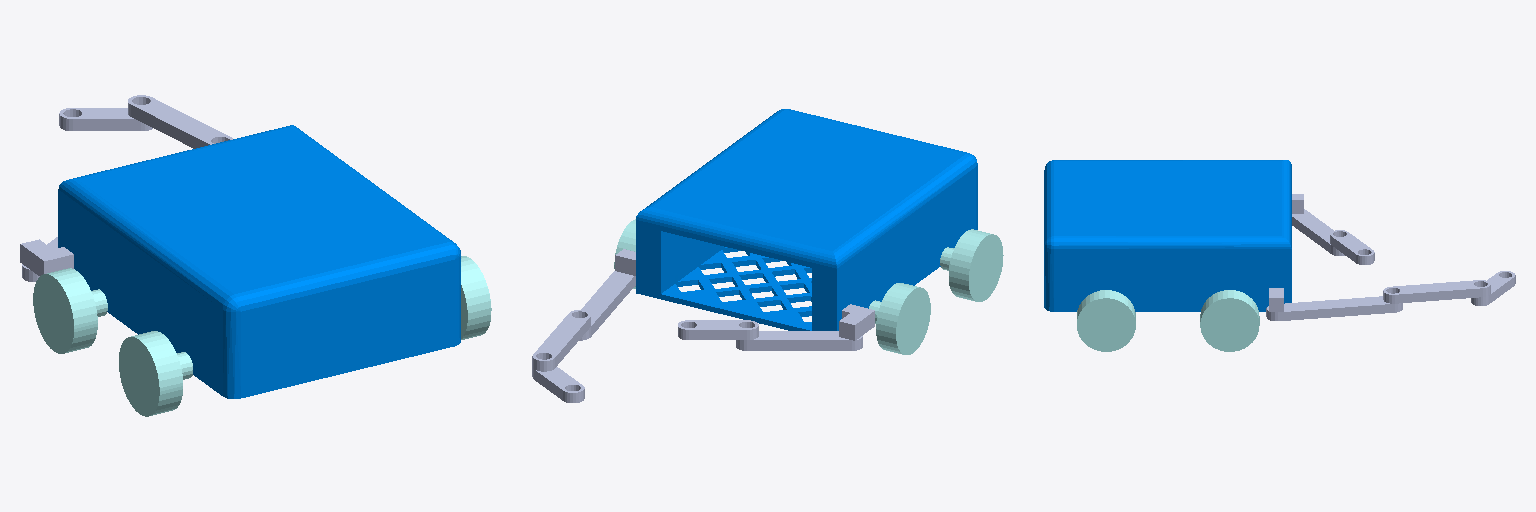
URDF robot description (project):
<?xml version="1.0" encoding="utf-8" ?>
<!-- This URDF was automatically created by SolidWorks to URDF Exporter! Originally created by [author] ([email redacted]) 
     Commit Version: 1.5.1-0-g916b5db  Build Version: 1.5.7152.31018
     For more information, please see http://wiki.ros.org/sw_urdf_exporter -->
<robot name="project">

    <link name="world" />
        <joint name="virtual_joint" type="fixed">
            <parent link="world" />
            <child link="base_link" />
            <origin xyz="0 0 0" rpy="0 0 0" />
        </joint>  

    <link name="base_link">
        
<inertial>
            <origin xyz="-0.00254797583364645 -0.105364950303488 0.0738359878459792" rpy="0 0 0" />
            <mass value="1.72429372346292" />
            <inertia ixx="0.0109314234954701" ixy="1.01485974615304E-06" ixz="-2.66870834625717E-06" iyy="0.0100303308363966" iyz="-0.000174340154658642" izz="0.0186205966354496" />
        </inertial>

        <visual>
            <origin xyz="0 0 0" rpy="0 0 0" />
            <geometry>
                <mesh filename="package://project/meshes/base_link.STL" />
            </geometry>
            <material name="">
                <color rgba="0 0.588235294117647 1 1" />
            </material>
        </visual>
        <collision>
            <origin xyz="0 0 0" rpy="0 0 0" />
            <geometry>
                <mesh filename="package://project/meshes/base_link.STL" />
            </geometry>
        </collision>
    </link>
    <link name="r_w_1">
        
<inertial>
            <origin xyz="0.045247 -2.7756E-17 0" rpy="0 0 0" />
            <mass value="0.067513" />
            <inertia ixx="2.5956E-05" ixy="7.2928E-22" ixz="9.0048E-22" iyy="2.4347E-05" iyz="-1.6941E-21" izz="2.4347E-05" />
        </inertial>

        <visual>
            <origin xyz="0 0 0" rpy="0 0 0" />
            <geometry>
                <mesh filename="package://project/meshes/r_w_1.STL" />
            </geometry>
            <material name="">
                <color rgba="0.75294 1 1 1" />
            </material>
        </visual>
        <collision>
            <origin xyz="0 0 0" rpy="0 0 0" />
            <geometry>
                <mesh filename="package://project/meshes/r_w_1.STL" />
            </geometry>
        </collision>
    </link>
    <joint name="rj_w_1" type="fixed">
        <origin xyz="0.0774877017107439 -0.0362774421458767 0.0299999999999999" rpy="2.74979624140029 0 0" />
        <parent link="base_link" />
        <child link="r_w_1" />
        <axis xyz="0 0 0" />
    </joint>
    <link name="r_w_2">
        
<inertial>
            <origin xyz="0.045247 -2.7756E-17 0" rpy="0 0 0" />
            <mass value="0.067513" />
            <inertia ixx="2.5956E-05" ixy="6.4099E-22" ixz="1.1251E-21" iyy="2.4347E-05" iyz="3.3881E-21" izz="2.4347E-05" />
        </inertial>

        <visual>
            <origin xyz="0 0 0" rpy="0 0 0" />
            <geometry>
                <mesh filename="package://project/meshes/r_w_2.STL" />
            </geometry>
            <material name="">
                <color rgba="0.75294 1 1 1" />
            </material>
        </visual>
        <collision>
            <origin xyz="0 0 0" rpy="0 0 0" />
            <geometry>
                <mesh filename="package://project/meshes/r_w_2.STL" />
            </geometry>
        </collision>
    </link>
    <joint name="rj_w_2" type="fixed">
        <origin xyz="0.0774877017107439 -0.161277442145877 0.03" rpy="2.74979624140029 0 0" />
        <parent link="base_link" />
        <child link="r_w_2" />
        <axis xyz="0 0 0" />
    </joint>
    <link name="l_w_1">
        
<inertial>
            <origin xyz="0.045247 0 -2.7756E-17" rpy="0 0 0" />
            <mass value="0.067513" />
            <inertia ixx="2.5956E-05" ixy="-2.48E-38" ixz="1.6701E-21" iyy="2.4347E-05" iyz="-9.985E-38" izz="2.4347E-05" />
        </inertial>

        <visual>
            <origin xyz="0 0 0" rpy="0 0 0" />
            <geometry>
                <mesh filename="package://project/meshes/l_w_1.STL" />
            </geometry>
            <material name="">
                <color rgba="0.75294 1 1 1" />
            </material>
        </visual>
        <collision>
            <origin xyz="0 0 0" rpy="0 0 0" />
            <geometry>
                <mesh filename="package://project/meshes/l_w_1.STL" />
            </geometry>
        </collision>
    </link>
    <joint name="lj_w_1" type="fixed">
        <origin xyz="-0.0825122982892561 -0.0362774421458766 0.03" rpy="1.5707963267949 0 3.14159265358979" />
        <parent link="base_link" />
        <child link="l_w_1" />
        <axis xyz="0 0 0" />
    </joint>
    <link name="l_w_2">
        
<inertial>
            <origin xyz="0.045247 0 -1.3878E-17" rpy="0 0 0" />
            <mass value="0.067513" />
            <inertia ixx="2.5956E-05" ixy="-2.48E-38" ixz="1.6701E-21" iyy="2.4347E-05" iyz="-9.985E-38" izz="2.4347E-05" />
        </inertial>

        <visual>
            <origin xyz="0 0 0" rpy="0 0 0" />
            <geometry>
                <mesh filename="package://project/meshes/l_w_2.STL" />
            </geometry>
            <material name="">
                <color rgba="0.75294 1 1 1" />
            </material>
        </visual>
        <collision>
            <origin xyz="0 0 0" rpy="0 0 0" />
            <geometry>
                <mesh filename="package://project/meshes/l_w_2.STL" />
            </geometry>
        </collision>
    </link>
    <joint name="lj_w_2" type="fixed">
        <origin xyz="-0.0825122982892561 -0.161277442145877 0.03" rpy="1.5707963267949 0 3.14159265358979" />
        <parent link="base_link" />
        <child link="l_w_2" />
        <axis xyz="0 0 0" />
    </joint>
    <link name="rlinkfix">
        
<inertial>
            <origin xyz="0.013695 0.0023213 0" rpy="0 0 0" />
            <mass value="0.0082894" />
            <inertia ixx="4.8067E-07" ixy="1.1015E-07" ixz="1.6944E-24" iyy="7.3247E-07" iyz="-1.1815E-22" izz="9.2231E-07" />
        </inertial>

        <visual>
            <origin xyz="0 0 0" rpy="0 0 0" />
            <geometry>
                <mesh filename="package://project/meshes/rlinkfix.STL" />
            </geometry>
            <material name="">
                <color rgba="0.79216 0.81961 0.93333 1" />
            </material>
        </visual>
        <collision>
            <origin xyz="0 0 0" rpy="0 0 0" />
            <geometry>
                <mesh filename="package://project/meshes/rlinkfix.STL" />
            </geometry>
        </collision>
    </link>
    <joint name="rjointfix" type="fixed">
        <origin xyz="0.12249 0.010723 0.0455" rpy="-1.5708 0 3.1416" />
        <parent link="base_link" />
        <child link="rlinkfix" />
        <axis xyz="0 0 0" />
        <limit lower="0" upper="6" effort="100" velocity="100" />
    </joint>
    <link name="rlink1">
        
<inertial>
            <origin xyz="0.0108 -0.061252 -0.005" rpy="0 0 0" />
            <mass value="0.024063" />
            <inertia ixx="2.9968E-05" ixy="5.1006E-06" ixz="1.1845E-22" iyy="1.9407E-06" iyz="3.1047E-22" izz="3.1508E-05" />
        </inertial>

        <visual>
            <origin xyz="0 0 0" rpy="0 0 0" />
            <geometry>
                <mesh filename="package://project/meshes/rlink1.STL" />
            </geometry>
            <material name="">
                <color rgba="0.79216 0.81961 0.93333 1" />
            </material>
        </visual>
        <collision>
            <origin xyz="0 0 0" rpy="0 0 0" />
            <geometry>
                <mesh filename="package://project/meshes/rlink1.STL" />
            </geometry>
        </collision>
    </link>
    <joint name="rjoint1" type="revolute">
        <origin xyz="0.0075887 0.0075 0.0021635" rpy="1.5708 0 0" />
        <parent link="rlinkfix" />
        <child link="rlink1" />
        <axis xyz="0 0 1" />
        <limit lower="0" upper="6" effort="100" velocity="100" />
    </joint>
    <link name="rlink2">
        
<inertial>
            <origin xyz="0.0078142 -0.044316 0.005" rpy="0 0 0" />
            <mass value="0.018063" />
            <inertia ixx="1.328E-05" ixy="2.2021E-06" ixz="5.5109E-23" iyy="1.1796E-06" iyz="4.6261E-23" izz="1.4159E-05" />
        </inertial>

        <visual>
            <origin xyz="0 0 0" rpy="0 0 0" />
            <geometry>
                <mesh filename="package://project/meshes/rlink2.STL" />
            </geometry>
            <material name="">
                <color rgba="0.79216 0.81961 0.93333 1" />
            </material>
        </visual>
        <collision>
            <origin xyz="0 0 0" rpy="0 0 0" />
            <geometry>
                <mesh filename="package://project/meshes/rlink2.STL" />
            </geometry>
        </collision>
    </link>
    <joint name="rjoint2" type="revolute">
        <origin xyz="0.021219 -0.12034 0" rpy="0 0 0" />
        <parent link="rlink1" />
        <child link="rlink2" />
        <axis xyz="0 0 1" />
        <limit lower="0" upper="6" effort="0" velocity="100" />
    </joint>
    <link name="rlink3">
        
<inertial>
            <origin xyz="0.021651 -0.0125 -0.005" rpy="0 0 0" />
            <mass value="0.010063" />
            <inertia ixx="1.072E-06" ixy="1.0635E-06" ixz="1.3247E-22" iyy="2.3E-06" iyz="-1.4399E-22" izz="3.2043E-06" />
        </inertial>

        <visual>
            <origin xyz="0 0 0" rpy="0 0 0" />
            <geometry>
                <mesh filename="package://project/meshes/rlink3.STL" />
            </geometry>
            <material name="">
                <color rgba="0.79216 0.81961 0.93333 1" />
            </material>
        </visual>
        <collision>
            <origin xyz="0 0 0" rpy="0 0 0" />
            <geometry>
                <mesh filename="package://project/meshes/rlink3.STL" />
            </geometry>
        </collision>
    </link>
    <joint name="rjoint3" type="revolute">
        <origin xyz="0.015628 -0.088633 0" rpy="0 0 0" />
        <parent link="rlink2" />
        <child link="rlink3" />
        <axis xyz="0 0 -1" />
        <limit lower="0" upper="6" effort="100" velocity="100" />
    </joint>
    <link name="llinkfix">
        
<inertial>
            <origin xyz="0.011605 0.0014703 0.0086858" rpy="0 0 0" />
            <mass value="0.013088" />
            <inertia ixx="1.8023E-06" ixy="7.0053E-08" ixz="4.111E-07" iyy="2.1488E-06" iyz="-2.042E-07" izz="1.2297E-06" />
        </inertial>

        <visual>
            <origin xyz="0 0 0" rpy="0 0 0" />
            <geometry>
                <mesh filename="package://project/meshes/llinkfix.STL" />
            </geometry>
            <material name="">
                <color rgba="0.79216 0.81961 0.93333 1" />
            </material>
        </visual>
        <collision>
            <origin xyz="0 0 0" rpy="0 0 0" />
            <geometry>
                <mesh filename="package://project/meshes/llinkfix.STL" />
            </geometry>
        </collision>
    </link>
    <joint name="ljointfix" type="fixed">
        <origin xyz="-0.12751 0.010723 0.0455" rpy="-1.5708 0 0" />
        <parent link="base_link" />
        <child link="llinkfix" />
        <axis xyz="0 0 0" />
        <limit lower="0" upper="6" effort="0" velocity="100" />
    </joint>
    <link name="llink1">
        
<inertial>
            <origin xyz="-0.039956 -0.0225 -0.005" rpy="0 0 0" />
            <mass value="0.018063" />
            <inertia ixx="4.0107E-06" ixy="-5.576E-06" ixz="-5.8674E-22" iyy="1.0449E-05" iyz="-1.8805E-22" izz="1.4159E-05" />
        </inertial>

        <visual>
            <origin xyz="0 0 0" rpy="0 0 0" />
            <geometry>
                <mesh filename="package://project/meshes/llink1.STL" />
            </geometry>
            <material name="">
                <color rgba="0.79216 0.81961 0.93333 1" />
            </material>
        </visual>
        <collision>
            <origin xyz="0 0 0" rpy="0 0 0" />
            <geometry>
                <mesh filename="package://project/meshes/llink1.STL" />
            </geometry>
        </collision>
    </link>
    <joint name="ljoint1" type="revolute">
        <origin xyz="0.0069795 0.0075 0.019298" rpy="-1.5708 0 3.1416" />
        <parent link="llinkfix" />
        <child link="llink1" />
        <axis xyz="0 0 1" />
        <limit lower="0" upper="6" effort="100" velocity="100" />
    </joint>
    <link name="llink2">
        
<inertial>
            <origin xyz="-0.021651 -0.0125 0.005" rpy="0 0 0" />
            <mass value="0.010063" />
            <inertia ixx="1.072E-06" ixy="-1.0635E-06" ixz="-4.3753E-22" iyy="2.3E-06" iyz="-2.1921E-22" izz="3.2043E-06" />
        </inertial>

        <visual>
            <origin xyz="0 0 0" rpy="0 0 0" />
            <geometry>
                <mesh filename="package://project/meshes/llink2.STL" />
            </geometry>
            <material name="">
                <color rgba="0.79216 0.81961 0.93333 1" />
            </material>
        </visual>
        <collision>
            <origin xyz="0 0 0" rpy="0 0 0" />
            <geometry>
                <mesh filename="package://project/meshes/llink2.STL" />
            </geometry>
        </collision>
    </link>
    <joint name="ljoint2" type="revolute">
        <origin xyz="-0.078927 -0.045 0" rpy="0 0 0" />
        <parent link="llink1" />
        <child link="llink2" />
        <axis xyz="0 0 -1" />
        <limit lower="0" upper="6" effort="100" velocity="100" />
    </joint>
    
<transmission name="trans_rjoint1">
        <type>transmission_interface/SimpleTransmission</type>
        <joint name="rjoint1">
            <hardwareInterface>hardware_interface/PositionJointInterface</hardwareInterface>
        </joint>
        <actuator name="rjoint1_motor">
            <hardwareInterface>hardware_interface/PositionJointInterface</hardwareInterface>
            <mechanicalReduction>1</mechanicalReduction>
        </actuator>
    </transmission>
    <transmission name="trans_rjoint2">
        <type>transmission_interface/SimpleTransmission</type>
        <joint name="rjoint2">
            <hardwareInterface>hardware_interface/PositionJointInterface</hardwareInterface>
        </joint>
        <actuator name="rjoint2_motor">
            <hardwareInterface>hardware_interface/PositionJointInterface</hardwareInterface>
            <mechanicalReduction>1</mechanicalReduction>
        </actuator>
    </transmission>
    <transmission name="trans_rjoint3">
        <type>transmission_interface/SimpleTransmission</type>
        <joint name="rjoint3">
            <hardwareInterface>hardware_interface/PositionJointInterface</hardwareInterface>
        </joint>
        <actuator name="rjoint3_motor">
            <hardwareInterface>hardware_interface/PositionJointInterface</hardwareInterface>
            <mechanicalReduction>1</mechanicalReduction>
        </actuator>
    </transmission>
    <transmission name="trans_ljoint1">
        <type>transmission_interface/SimpleTransmission</type>
        <joint name="ljoint1">
            <hardwareInterface>hardware_interface/PositionJointInterface</hardwareInterface>
        </joint>
        <actuator name="ljoint1_motor">
            <hardwareInterface>hardware_interface/PositionJointInterface</hardwareInterface>
            <mechanicalReduction>1</mechanicalReduction>
        </actuator>
    </transmission>
    <transmission name="trans_ljoint2">
        <type>transmission_interface/SimpleTransmission</type>
        <joint name="ljoint2">
            <hardwareInterface>hardware_interface/PositionJointInterface</hardwareInterface>
        </joint>
        <actuator name="ljoint2_motor">
            <hardwareInterface>hardware_interface/PositionJointInterface</hardwareInterface>
            <mechanicalReduction>1</mechanicalReduction>
        </actuator>
    </transmission>
    <gazebo>
        <plugin name="gazebo_ros_control" filename="libgazebo_ros_control.so">
            <robotNamespace>/</robotNamespace>
            <robotSimType>gazebo_ros_control/DefaultRobotHWSim</robotSimType>
            <legacyModeNS>true</legacyModeNS>
        </plugin>
    </gazebo>
</robot>

--- Facts derived from the render (not from the file) ---
The picture shows the robot from 3 angles, left to right: view 1: azimuth 30°, elevation 25°; view 2: azimuth 150°, elevation 25°; view 3: azimuth 270°, elevation 25°; orthographic projection.
Robot: project — 13 links, 12 joints (5 revolute, 7 fixed); root link world; default pose: all joints at 0.
Visible links, largest first — view 1: base_link, l_w_1, l_w_2, rlink2, r_w_2, rlink3, llinkfix; view 2: base_link, l_w_2, l_w_1, llink1, rlink2, rlink1, llink2, rlink3, llinkfix; view 3: base_link, r_w_1, r_w_2, rlink1, rlink2, llink1, llink2, rlink3.
Link boxes in pixels (box(x1,y1,x2,y2)): base_link: box(58, 125, 460, 398); l_w_1: box(33, 268, 107, 353); l_w_2: box(119, 331, 192, 416); rlink2: box(128, 95, 232, 148); r_w_2: box(461, 256, 491, 339); rlink3: box(59, 108, 152, 130); llinkfix: box(20, 239, 73, 275); base_link: box(636, 109, 977, 330); l_w_2: box(940, 229, 1003, 301); l_w_1: box(869, 283, 930, 354); llink1: box(736, 331, 862, 350); rlink2: box(532, 310, 590, 371); rlink1: box(579, 271, 635, 340); llink2: box(678, 320, 758, 339); rlink3: box(532, 367, 584, 402); llinkfix: box(839, 304, 874, 340); base_link: box(1044, 160, 1291, 311); r_w_1: box(1200, 290, 1259, 351); r_w_2: box(1077, 290, 1135, 351); rlink1: box(1266, 296, 1402, 320); rlink2: box(1383, 280, 1490, 303); llink1: box(1292, 209, 1344, 255); llink2: box(1330, 230, 1374, 264); rlink3: box(1471, 271, 1515, 305).
Size in the robot's own frame: 0.28 by 0.4763 by 0.106 metres.
Meshes: 12 distinct files referenced, 12 mesh visuals loaded (12 binary STL).